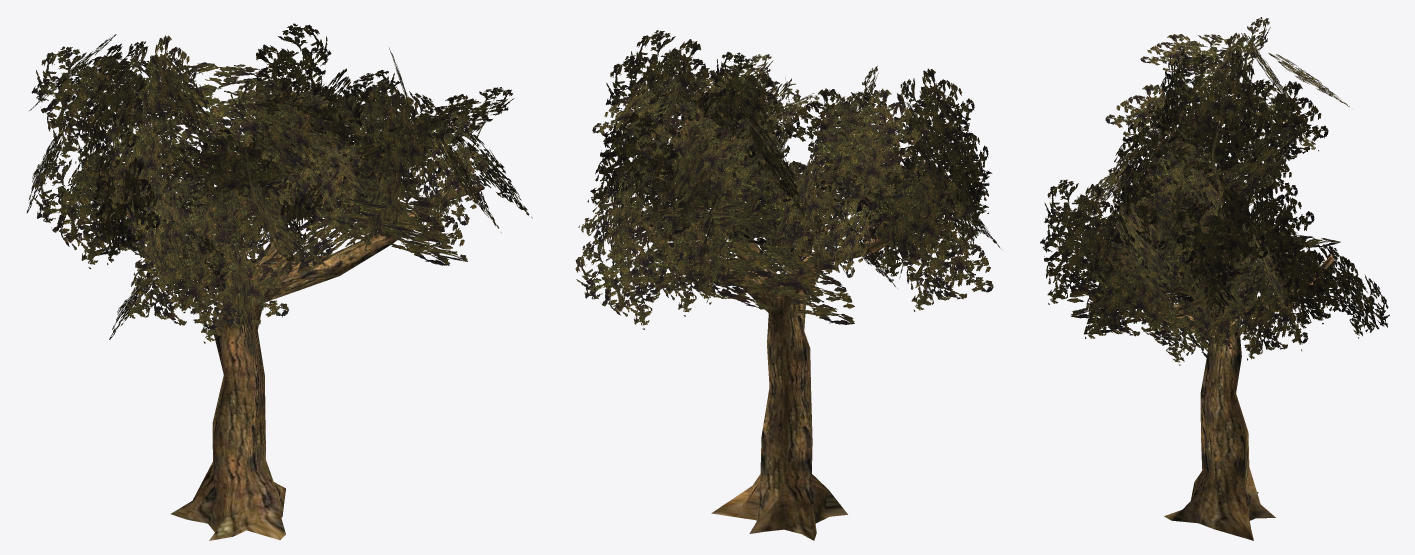
File: Tree01.obj
3 renders of one model, left to right at view 1: azimuth 30°, elevation 25°; view 2: azimuth 150°, elevation 25°; view 3: azimuth 270°, elevation 25°, orthographic. The views are drawn at different scales.
Visible parts, largest first — view 1: Mesh_1, Mesh_0; view 2: Mesh_1, Mesh_0; view 3: Mesh_1, Mesh_0.
Part boxes in pixels (left/top/right/bottom): Mesh_1: left=26, top=23, right=532, bottom=361; Mesh_0: left=122, top=179, right=484, bottom=540; Mesh_1: left=575, top=30, right=1000, bottom=329; Mesh_0: left=641, top=125, right=925, bottom=540; Mesh_1: left=1040, top=17, right=1389, bottom=365; Mesh_0: left=1116, top=169, right=1334, bottom=540.
Bounding box in the file's own units: 7.61 × 8.16 × 6.1.
2 materials, 2 textured.
